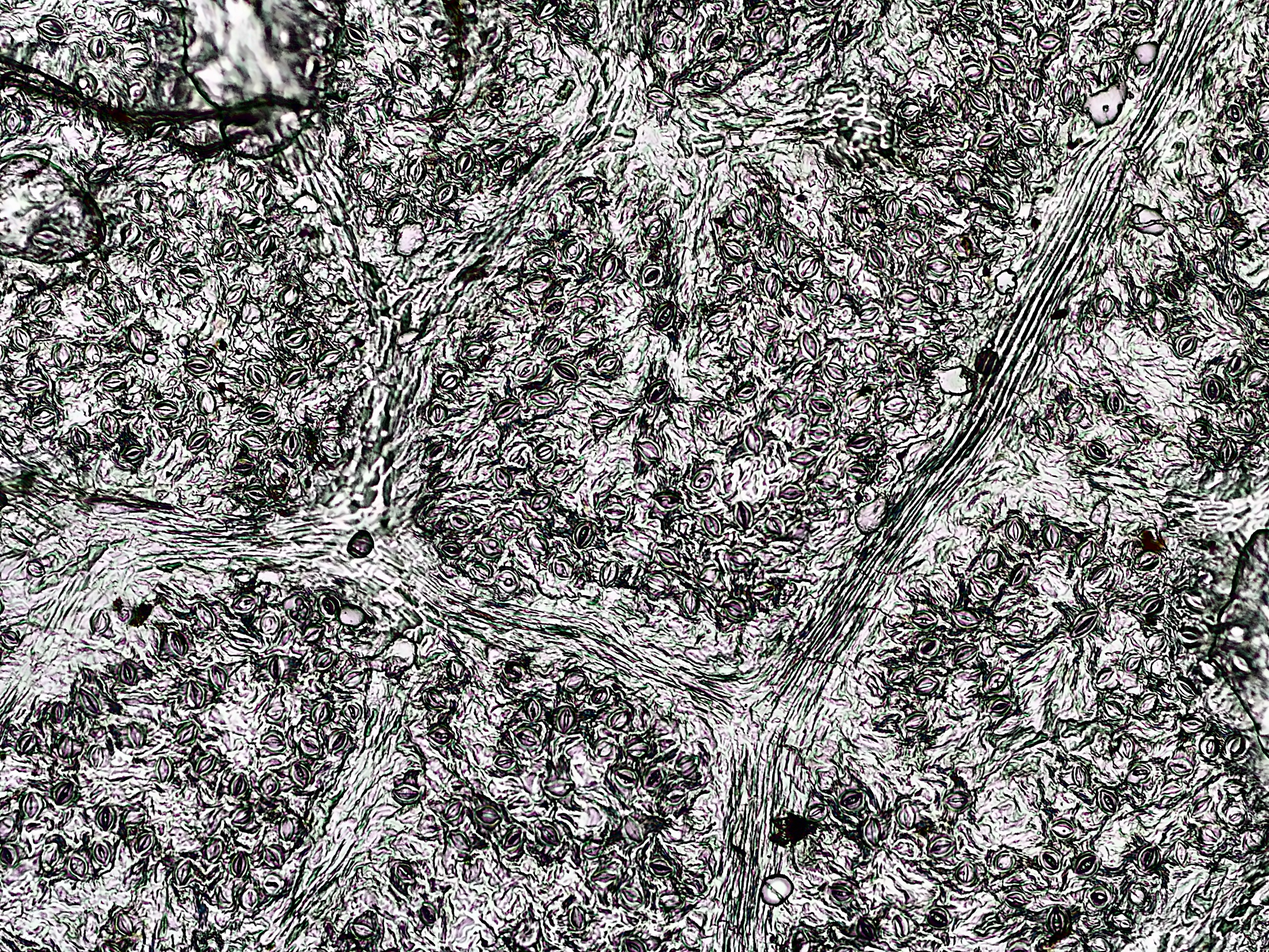stomata: (760, 875, 791, 906), (32, 13, 66, 38), (1069, 609, 1098, 637), (30, 227, 65, 250), (70, 70, 100, 96), (652, 300, 677, 331), (513, 918, 539, 947), (634, 435, 663, 460), (572, 181, 602, 205), (571, 519, 595, 549), (890, 838, 922, 860), (651, 489, 686, 509), (145, 120, 174, 144), (1040, 520, 1063, 550), (184, 680, 207, 710), (954, 171, 981, 196), (248, 362, 273, 389), (26, 405, 56, 427), (950, 607, 981, 628), (86, 35, 111, 61), (77, 688, 101, 715), (596, 253, 619, 281), (1147, 305, 1168, 335), (422, 685, 447, 710), (195, 603, 219, 629), (797, 291, 817, 322), (28, 293, 56, 315), (492, 398, 520, 420), (20, 790, 42, 818), (799, 331, 820, 360), (547, 777, 576, 798), (523, 273, 553, 293), (789, 360, 814, 384), (112, 290, 135, 316), (11, 274, 38, 296), (434, 181, 456, 208), (1134, 550, 1161, 572), (281, 430, 302, 458), (97, 409, 118, 437), (69, 424, 90, 452), (588, 407, 616, 428), (1047, 908, 1068, 936), (1229, 230, 1258, 250), (1002, 616, 1031, 636), (523, 250, 555, 268), (111, 7, 134, 32), (1039, 850, 1064, 873), (351, 913, 376, 936), (381, 94, 403, 120), (998, 22, 1024, 44), (1207, 199, 1229, 225), (423, 439, 449, 461), (968, 576, 994, 598), (1096, 787, 1118, 813), (895, 799, 914, 829), (1, 72, 28, 93), (85, 161, 112, 182), (152, 399, 179, 420), (744, 427, 765, 454), (1138, 846, 1159, 873), (927, 836, 954, 857), (623, 816, 644, 843), (53, 342, 73, 370), (1213, 136, 1231, 167), (529, 387, 560, 405), (344, 22, 368, 45), (556, 359, 580, 382), (990, 850, 1019, 869), (396, 60, 418, 85), (733, 333, 755, 358), (541, 331, 563, 356), (491, 464, 513, 489), (428, 722, 453, 744), (231, 165, 252, 191), (939, 88, 960, 114), (386, 198, 407, 224), (1074, 539, 1095, 565), (168, 189, 188, 216), (645, 89, 675, 107), (238, 431, 268, 449), (18, 377, 48, 395), (126, 323, 144, 353), (88, 607, 106, 637), (95, 804, 115, 831), (1007, 515, 1026, 543), (1138, 594, 1166, 613), (968, 89, 991, 112), (514, 359, 537, 382), (52, 782, 75, 805), (86, 268, 107, 293), (991, 54, 1016, 75), (798, 255, 819, 280), (118, 660, 139, 685), (210, 663, 231, 688), (428, 106, 457, 124), (1228, 284, 1246, 313), (673, 752, 699, 772), (120, 444, 147, 463), (600, 561, 619, 588), (569, 905, 588, 932), (1174, 334, 1197, 356), (991, 191, 1014, 213), (187, 428, 209, 451), (692, 467, 714, 490), (1074, 855, 1097, 877), (791, 929, 813, 952), (311, 701, 333, 724), (454, 151, 475, 175), (706, 27, 727, 51), (1187, 420, 1211, 441), (1086, 441, 1110, 462), (805, 423, 833, 441), (245, 407, 273, 425), (529, 490, 553, 511), (1010, 564, 1031, 588), (916, 635, 940, 656), (995, 644, 1023, 662), (861, 816, 879, 844), (125, 46, 150, 66), (884, 396, 909, 416), (462, 341, 487, 361), (1038, 31, 1064, 50), (999, 158, 1025, 177), (602, 501, 628, 520), (902, 121, 931, 138), (911, 610, 938, 628), (1168, 757, 1195, 775), (925, 282, 947, 304), (648, 381, 670, 403), (285, 367, 307, 389), (955, 860, 977, 882), (123, 807, 146, 828), (393, 861, 416, 882), (482, 27, 502, 51), (1235, 409, 1255, 433), (952, 643, 976, 663), (1060, 80, 1077, 108), (1106, 387, 1123, 415), (788, 449, 816, 466), (241, 485, 269, 502), (556, 706, 573, 734), (647, 857, 675, 874), (236, 210, 261, 229), (1193, 253, 1212, 278), (646, 215, 665, 240), (595, 354, 620, 373), (265, 843, 284, 868), (205, 837, 224, 862), (178, 270, 204, 288), (409, 159, 427, 185), (697, 565, 723, 583), (231, 593, 257, 611), (890, 286, 919, 302), (846, 434, 875, 450), (736, 501, 752, 530), (577, 292, 599, 313), (1137, 414, 1159, 435), (552, 557, 573, 579), (840, 789, 862, 810), (807, 804, 829, 825), (318, 593, 340, 614), (120, 222, 140, 245), (578, 10, 598, 33), (730, 203, 750, 226), (867, 246, 887, 269), (284, 328, 307, 348), (1, 421, 21, 444), (1179, 627, 1202, 647), (259, 773, 279, 796), (470, 114, 497, 131), (197, 389, 214, 416), (3, 111, 22, 135), (357, 166, 376, 190), (541, 296, 565, 315), (1065, 399, 1084, 423), (318, 348, 342, 367), (1115, 735, 1134, 759), (889, 914, 908, 938), (116, 912, 135, 936), (126, 724, 145, 748), (167, 632, 186, 656), (477, 807, 501, 826), (1204, 378, 1222, 403), (187, 355, 212, 373), (888, 666, 913, 684), (903, 711, 928, 729), (1050, 820, 1075, 838), (1120, 2, 1146, 19), (148, 4, 169, 25), (67, 857, 88, 878), (537, 823, 558, 844), (897, 360, 917, 382), (499, 511, 521, 531), (1230, 653, 1252, 673), (175, 721, 195, 743), (343, 142, 362, 165), (642, 263, 661, 286), (428, 401, 447, 424), (479, 537, 502, 556), (832, 882, 855, 901), (856, 917, 875, 940), (1015, 127, 1044, 142), (232, 849, 247, 878), (134, 188, 152, 212), (430, 29, 454, 47), (833, 16, 849, 43), (721, 240, 745, 258), (718, 273, 742, 291), (767, 340, 783, 367), (570, 330, 597, 346), (426, 472, 453, 488), (702, 512, 720, 536), (682, 592, 700, 616), (1072, 765, 1090, 789), (291, 761, 309, 785), (920, 341, 945, 358), (1220, 437, 1237, 462), (814, 473, 839, 490), (655, 548, 680, 565), (1104, 25, 1124, 46), (758, 315, 778, 336), (499, 570, 519, 591), (527, 532, 547, 553), (767, 514, 787, 535), (1184, 591, 1205, 611), (0, 629, 20, 650), (133, 831, 154, 851), (15, 732, 36, 752), (125, 84, 147, 103), (145, 241, 164, 263), (440, 370, 462, 389), (1127, 885, 1146, 907), (261, 611, 280, 633), (884, 193, 900, 219), (704, 312, 730, 328), (1035, 416, 1051, 442), (1173, 841, 1189, 867), (536, 0, 559, 18), (321, 440, 344, 458), (945, 790, 968, 808), (231, 565, 254, 583), (263, 732, 286, 750), (702, 68, 726, 85), (564, 238, 581, 262), (589, 871, 618, 885), (925, 258, 952, 273), (225, 285, 245, 305), (485, 87, 505, 107), (778, 232, 794, 257), (911, 199, 931, 219), (863, 337, 879, 362), (279, 286, 299, 306), (155, 758, 171, 783), (359, 103, 378, 124), (765, 26, 784, 47), (827, 360, 846, 381), (771, 390, 790, 411), (696, 404, 717, 423), (984, 671, 1005, 690), (926, 910, 947, 929), (609, 708, 628, 729), (13, 327, 31, 349), (221, 238, 239, 260), (963, 64, 985, 82), (1095, 292, 1113, 314), (324, 416, 346, 434), (648, 574, 670, 592), (916, 676, 938, 694), (1227, 735, 1245, 757), (328, 729, 346, 751), (763, 274, 780, 297), (751, 580, 774, 597), (395, 785, 418, 802), (621, 887, 644, 904), (759, 193, 774, 219), (851, 206, 866, 232), (809, 397, 835, 412), (448, 514, 474, 529), (84, 345, 100, 369), (1182, 715, 1206, 731), (51, 700, 67, 724), (269, 656, 285, 680), (943, 26, 962, 46), (1166, 280, 1185, 300), (1136, 693, 1155, 713), (1198, 660, 1218, 679), (516, 728, 536, 747), (738, 42, 759, 60), (1247, 367, 1265, 388), (534, 444, 555, 462), (564, 673, 585, 691), (617, 767, 635, 788), (444, 800, 462, 821), (825, 280, 840, 305), (1093, 562, 1108, 587), (1252, 140, 1269, 162), (262, 876, 284, 893), (299, 736, 321, 753), (451, 831, 468, 853), (259, 232, 275, 255), (896, 101, 919, 117), (628, 740, 651, 756), (256, 178, 270, 204), (778, 482, 804, 496), (1222, 778, 1248, 792), (725, 599, 744, 618), (446, 660, 465, 679), (748, 3, 768, 21), (962, 2, 982, 20), (860, 306, 880, 324), (988, 698, 1012, 713), (420, 904, 438, 924), (398, 24, 419, 41), (659, 30, 676, 51), (175, 862, 192, 883), (304, 624, 325, 641), (1101, 61, 1117, 83), (978, 131, 1000, 147), (1201, 735, 1217, 757), (57, 735, 73, 757), (314, 651, 336, 667), (229, 459, 252, 474), (729, 550, 752, 565), (93, 841, 108, 864), (524, 698, 539, 721), (670, 0, 689, 18), (738, 382, 757, 400), (984, 550, 1002, 569), (1105, 701, 1124, 719), (1176, 679, 1194, 698), (1200, 823, 1219, 841), (905, 228, 925, 245), (850, 395, 870, 412), (548, 460, 568, 477), (27, 558, 44, 578), (644, 768, 661, 788), (280, 816, 293, 842), (1139, 286, 1155, 307), (1094, 667, 1115, 683), (342, 671, 366, 685), (501, 662, 522, 678), (665, 789, 689, 803), (1006, 893, 1028, 908), (42, 843, 57, 865), (501, 157, 519, 175), (471, 563, 489, 581), (1193, 798, 1210, 817), (485, 140, 508, 154), (848, 463, 871, 477), (89, 744, 103, 767), (93, 309, 113, 325), (1129, 763, 1149, 779), (1256, 97, 1269, 121), (527, 228, 551, 241), (506, 827, 520, 849), (180, 238, 198, 255), (1227, 354, 1244, 372), (1124, 654, 1142, 671), (1227, 806, 1245, 823), (196, 756, 214, 773), (232, 807, 249, 825), (582, 840, 600, 857), (1145, 633, 1164, 649), (1089, 890, 1109, 905), (101, 374, 124, 387), (1114, 916, 1135, 930), (266, 703, 283, 720), (420, 818, 437, 835), (1225, 105, 1243, 121), (1030, 76, 1041, 102), (495, 754, 514, 769), (243, 888, 257, 908), (1258, 13, 1269, 38), (1090, 937, 1108, 952), (346, 704, 361, 722), (0, 845, 14, 864), (232, 773, 244, 795), (442, 542, 462, 555), (1161, 783, 1181, 796), (592, 689, 609, 704), (1082, 915, 1103, 927), (626, 940, 647, 952), (1004, 0, 1025, 11), (1061, 0, 1081, 11), (1079, 314, 1092, 330), (1257, 332, 1269, 348), (1260, 67, 1269, 87), (1261, 221, 1269, 242), (1247, 57, 1258, 71)
